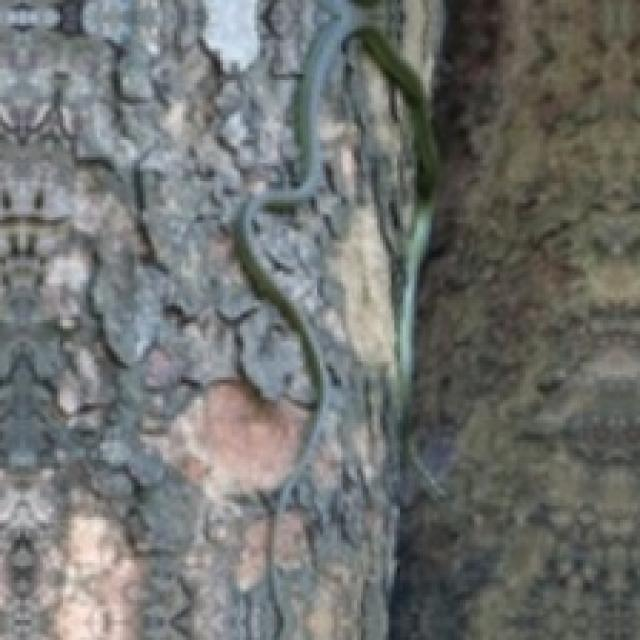paradise tree snake: (200, 0, 434, 637)
